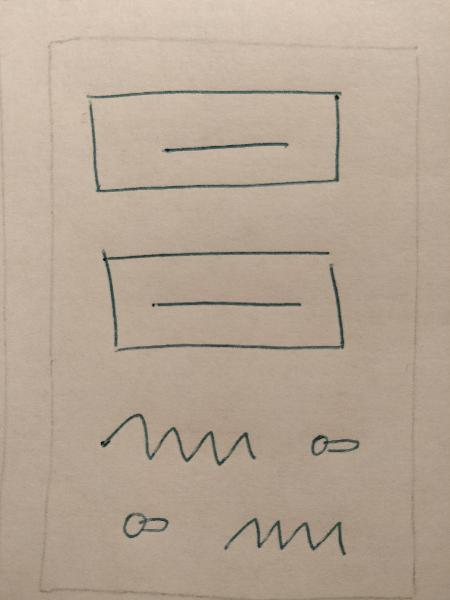button: (78, 78, 364, 203), (84, 242, 374, 364)
switch: (107, 502, 183, 548), (299, 426, 386, 466)
text: (90, 395, 266, 475), (215, 507, 352, 564)
